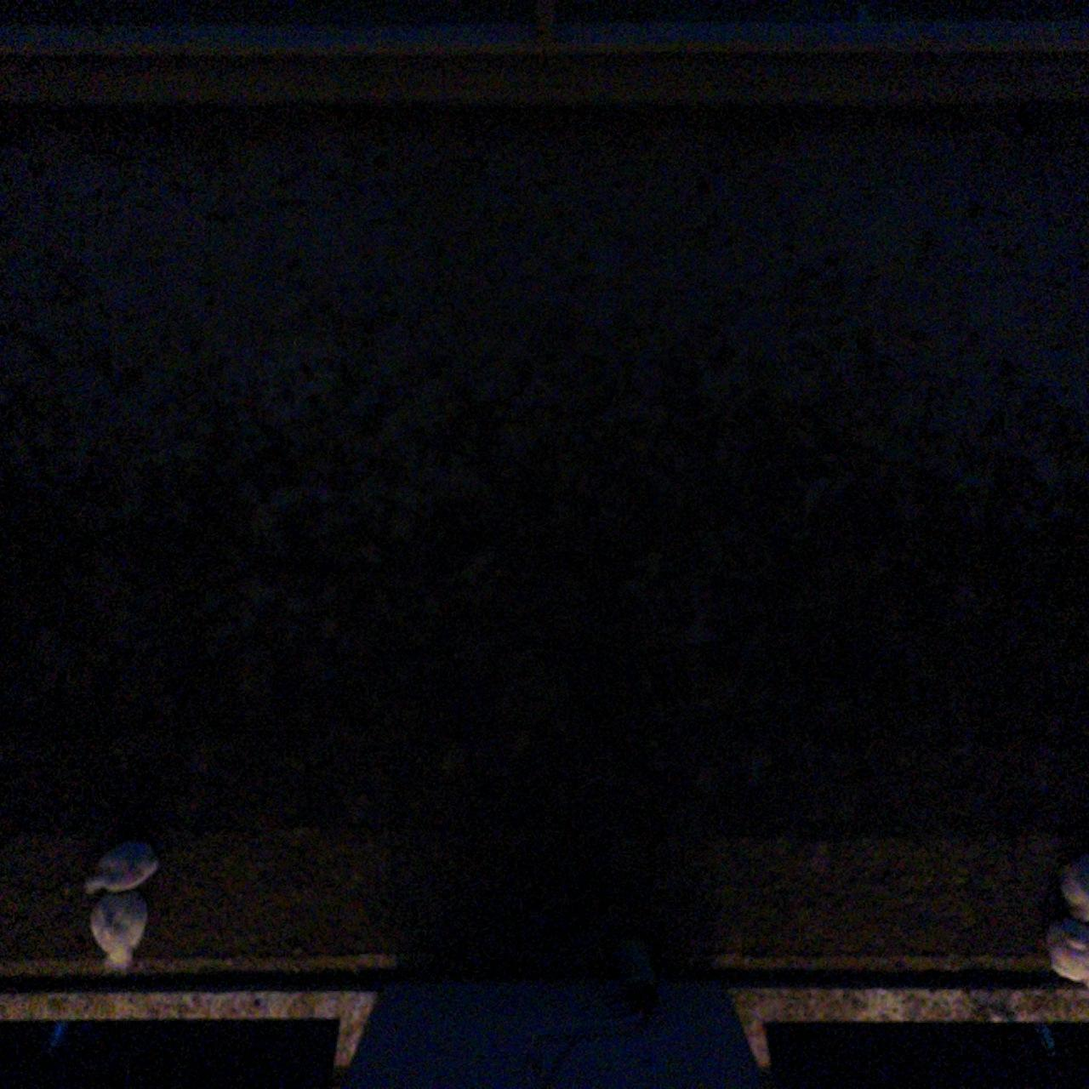chicken: (89, 887, 151, 980), (85, 839, 160, 889), (1045, 921, 1089, 989), (1058, 865, 1089, 921)
